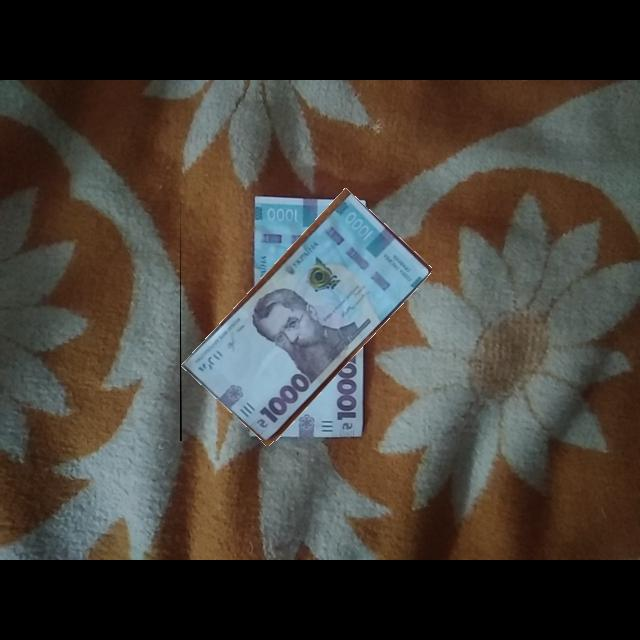1000uah: (182, 192, 429, 442)
